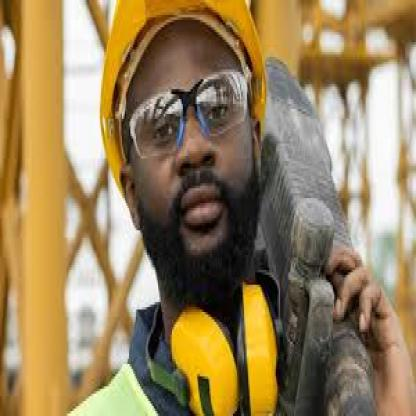oculos: (130, 70, 251, 158)
